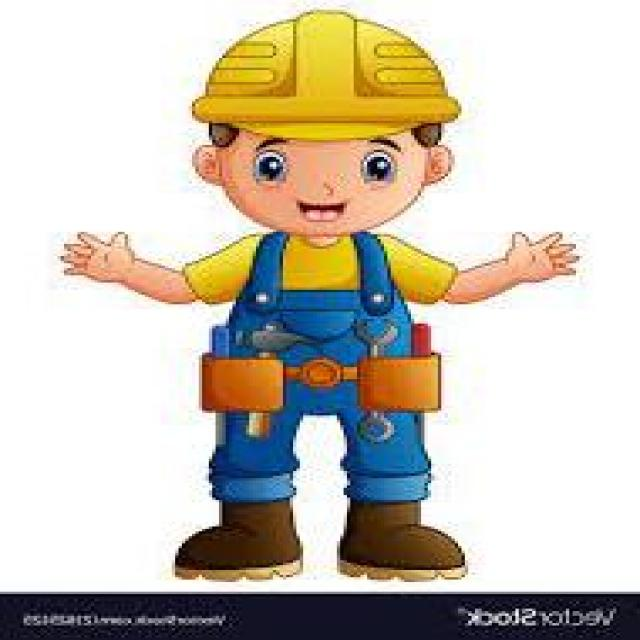Safety-Helmet: (185, 7, 468, 145)
